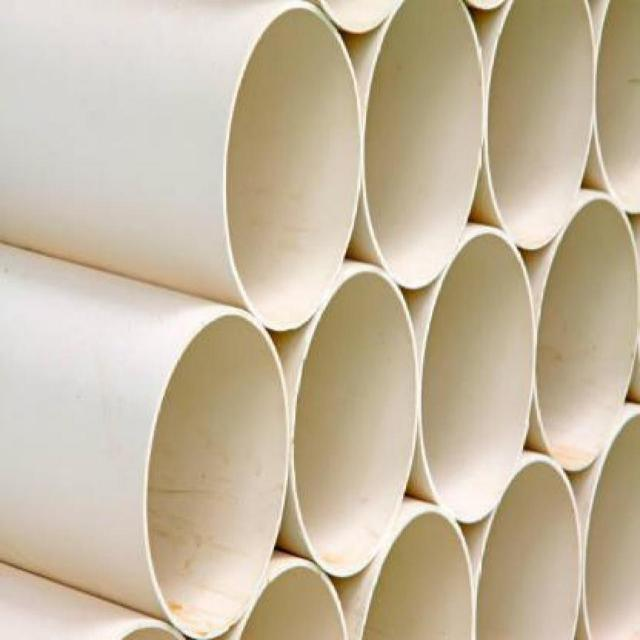pipe: (142, 308, 290, 638), (223, 7, 362, 333), (291, 265, 419, 578), (363, 2, 485, 288), (420, 228, 535, 524), (532, 195, 637, 471), (485, 0, 594, 249), (475, 457, 583, 639), (362, 505, 476, 639), (577, 407, 640, 640), (590, 0, 640, 215), (233, 561, 353, 640)
